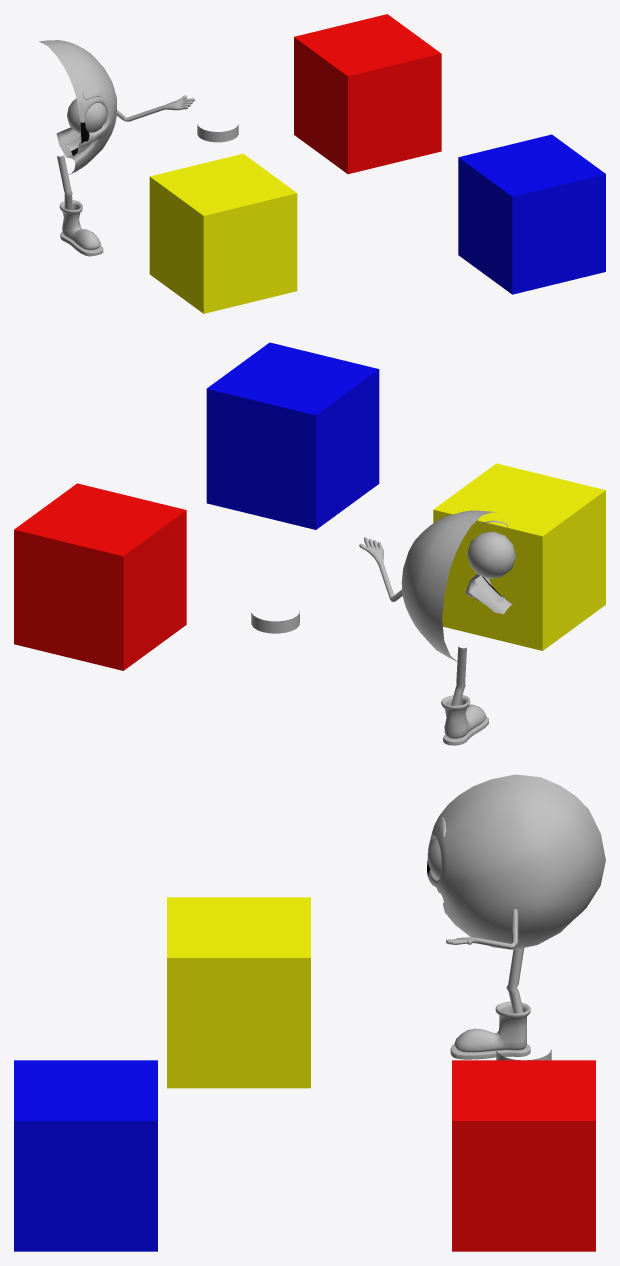
3 renders of one model, top to bottom at view 1: azimuth 30°, elevation 25°; view 2: azimuth 150°, elevation 25°; view 3: azimuth 270°, elevation 25°, orthographic. The views are drawn at different scales.
Parts seen in each view (by area): view 1: pCube10, pCube9, pCube8, polySurface1, pCube7, pSphere3, pCube4, pCylinder2, pCylinder1; view 2: pCube9, pCube8, pCube10, polySurface1, pSphere3, pCube7, pCube4, pCylinder2, pCylinder1; view 3: pCube8, pCube9, pCube10, polySurface1, pCube7, pCylinder1, pCube4.
Part boxes in pixels (<box>): pCube10: <box>149,153,297,313</box>; pCube9: <box>458,134,605,294</box>; pCube8: <box>294,14,441,174</box>; polySurface1: <box>39,40,116,174</box>; pCube7: <box>59,200,103,256</box>; pSphere3: <box>67,98,106,133</box>; pCube4: <box>116,95,195,121</box>; pCylinder2: <box>197,124,238,142</box>; pCylinder1: <box>57,155,72,210</box>; pCube9: <box>206,342,379,529</box>; pCube8: <box>14,483,186,670</box>; pCube10: <box>433,463,605,650</box>; polySurface1: <box>401,510,512,661</box>; pSphere3: <box>467,531,515,578</box>; pCube7: <box>441,695,488,745</box>; pCube4: <box>359,537,402,601</box>; pCylinder2: <box>251,611,299,633</box>; pCylinder1: <box>451,646,466,705</box>; pCube8: <box>452,1060,595,1251</box>; pCube9: <box>14,1060,157,1251</box>; pCube10: <box>167,897,310,1088</box>; polySurface1: <box>427,774,605,949</box>; pCube7: <box>450,1001,530,1059</box>; pCylinder1: <box>506,948,524,1013</box>; pCube4: <box>446,909,518,949</box>.
Bounding box in the file's own units: 0.2067 × 0.1047 × 0.2137.
